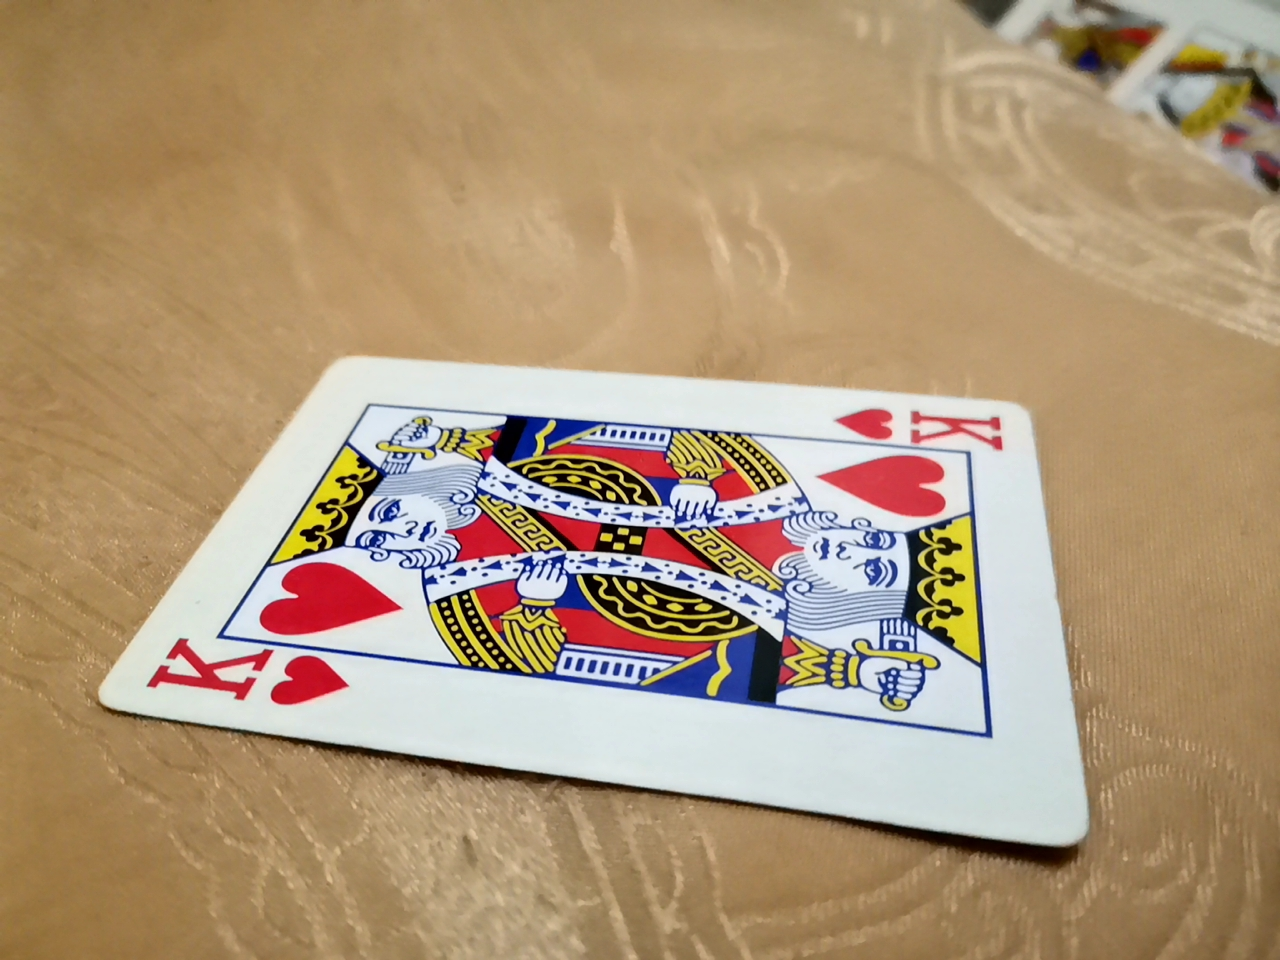hx k: (80, 358, 1090, 842)
